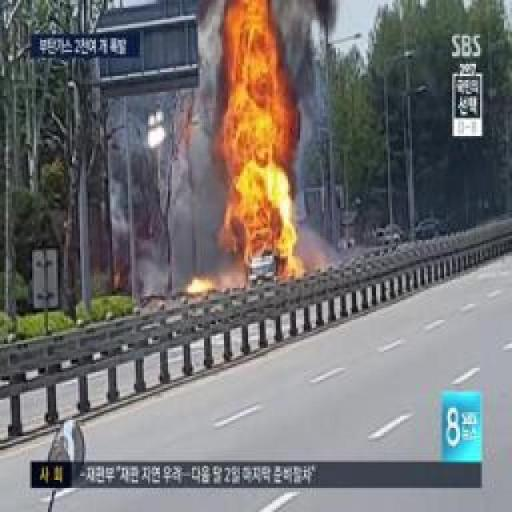smoke: (230, 41, 293, 265), (189, 278, 217, 292)
